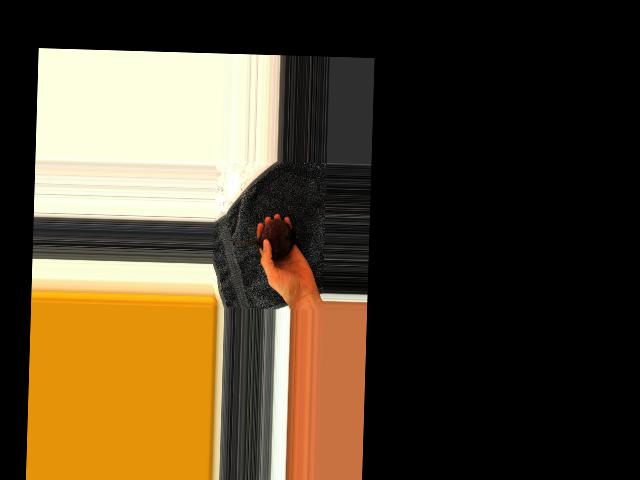beet: (229, 217, 296, 259)
